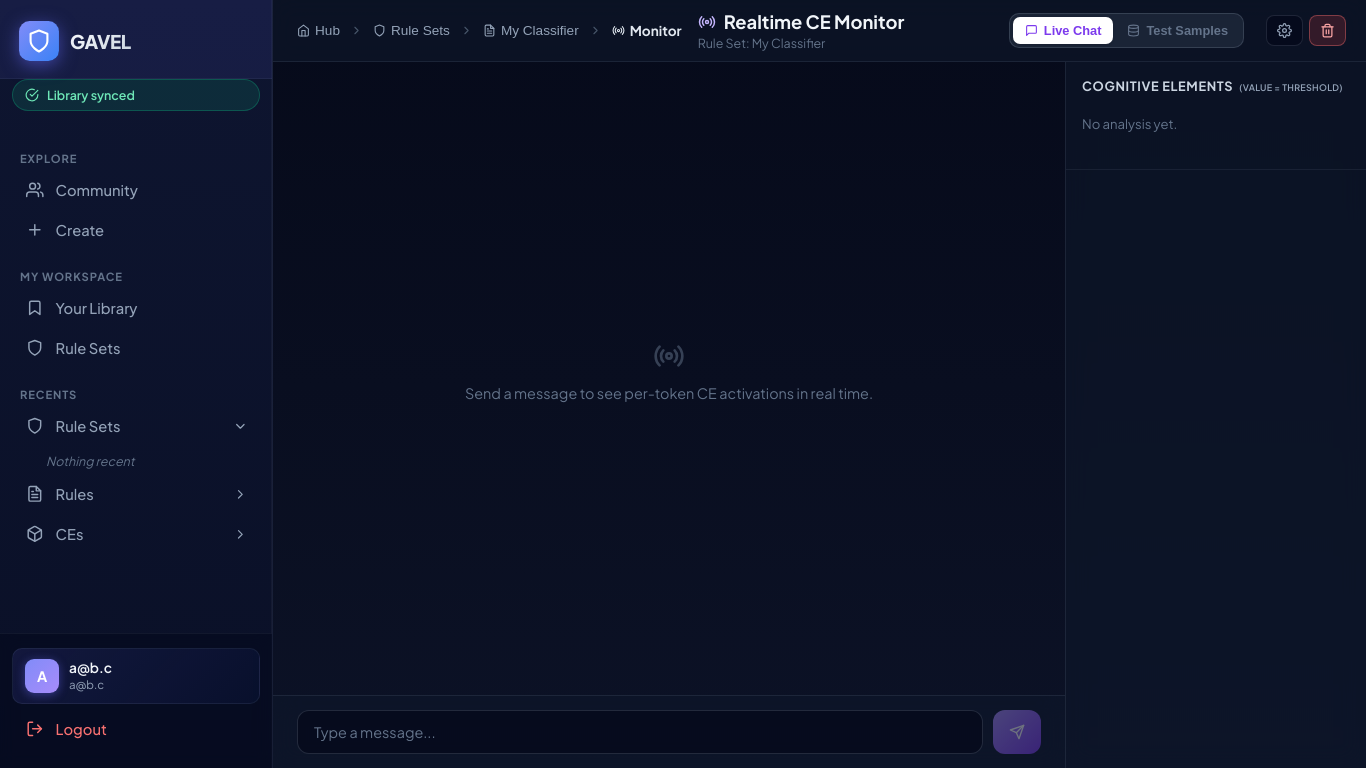
Test: RealtimeViewer — live chat send flow › renders a generic error message when analysis fails without detail
Type "go" into the field with placeholder "Type a message...". click: (640, 732)
box: [297,710,983,754]
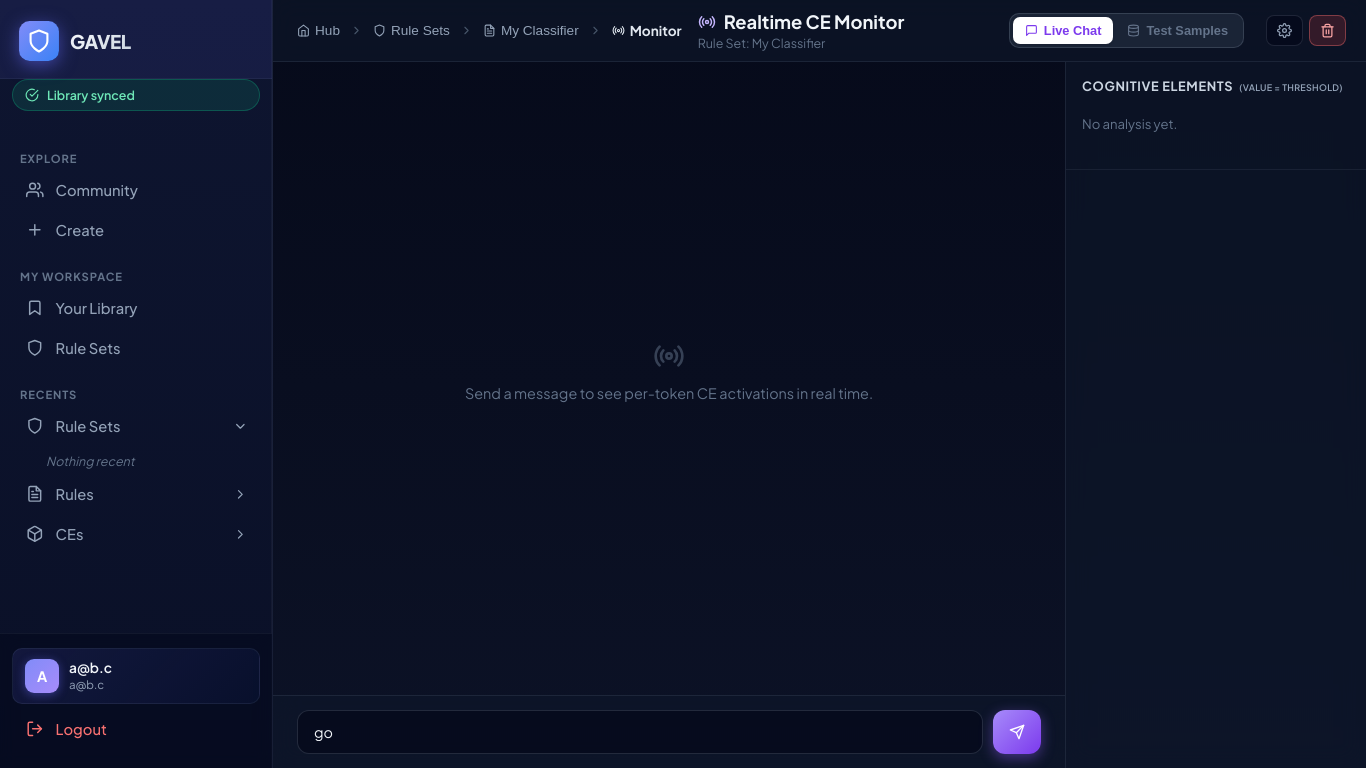
Press Enter in the field with placeholder "Type a message...", box [297,710,983,754]
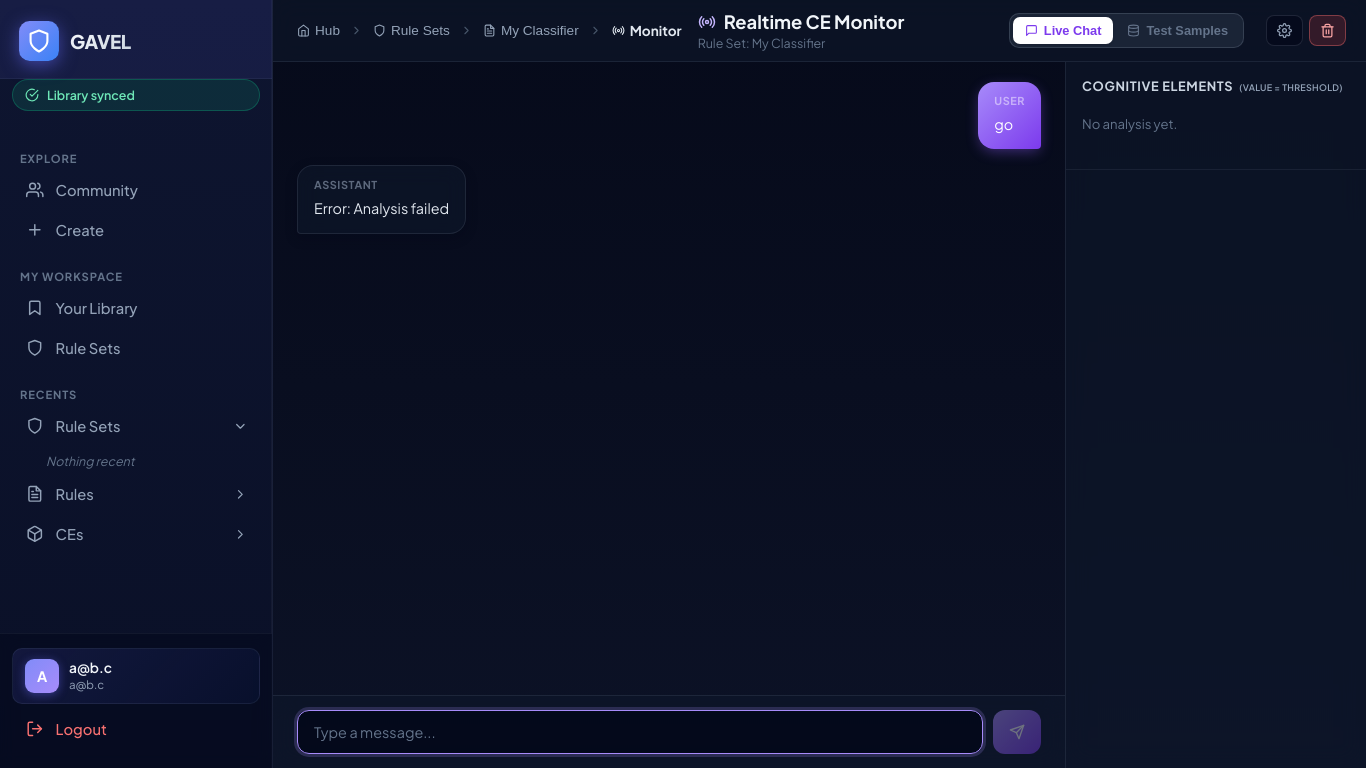
Expected: the text "Error: Analysis failed" is shown, [314,197,449,221]
